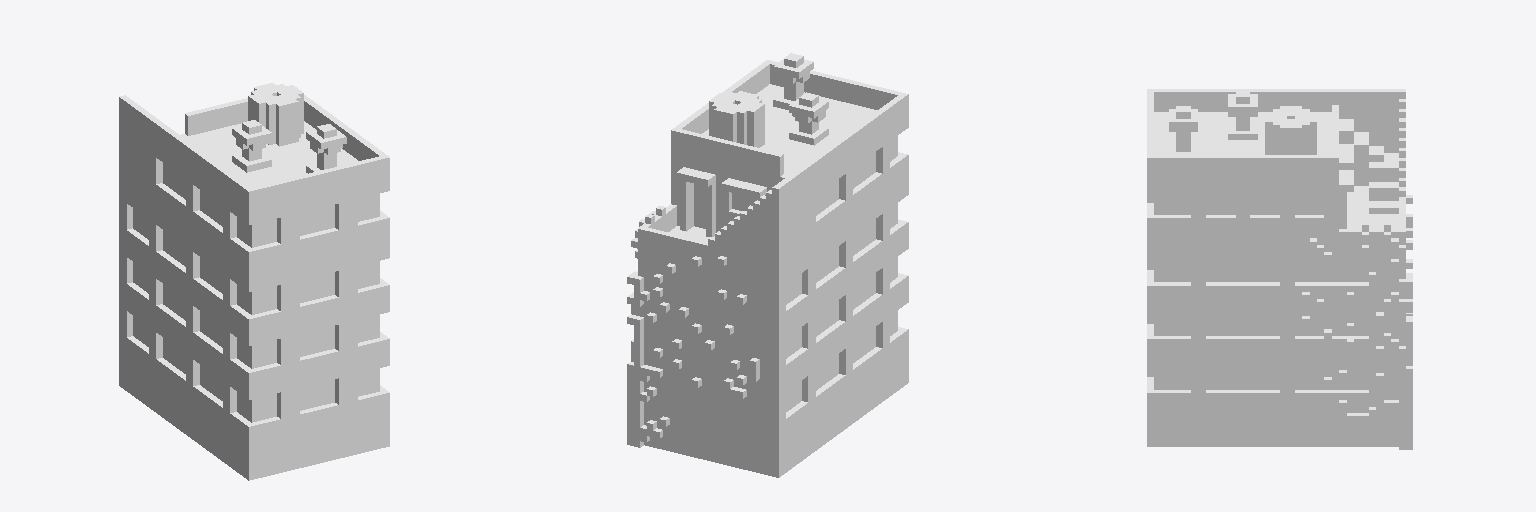
File: mediumbuilding2.obj
The picture shows the model from 3 angles: view 1: azimuth 30°, elevation 25°; view 2: azimuth 150°, elevation 25°; view 3: azimuth 270°, elevation 25°; orthographic projection.
Parts seen in each view (by area): view 1: mediumbuilding2; view 2: mediumbuilding2; view 3: mediumbuilding2.
Boxes of the visible parts, <box> form: mediumbuilding2: <box>119,83,389,480</box>; mediumbuilding2: <box>627,53,908,477</box>; mediumbuilding2: <box>1147,89,1412,449</box>.
Bounding box in the file's own units: 23 × 47 × 36.